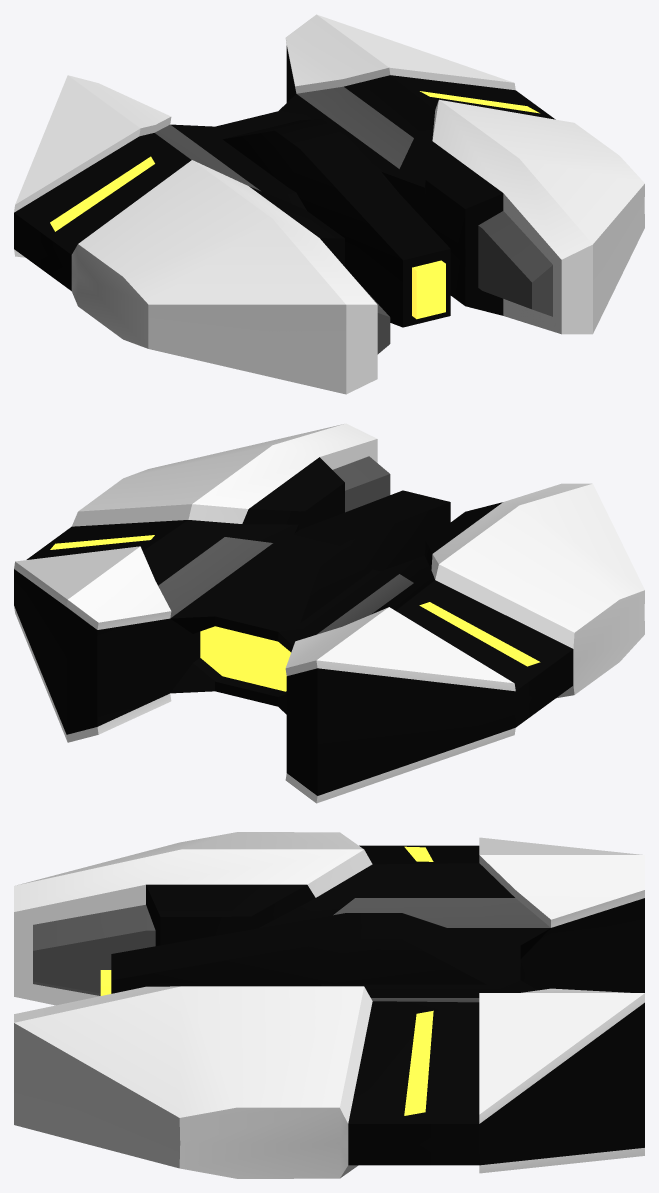
Rendered from 01_ship_light_dauwn.glb.
3 renders of one model, top to bottom at view 1: azimuth 30°, elevation 25°; view 2: azimuth 150°, elevation 25°; view 3: azimuth 270°, elevation 25°, orthographic. The views are drawn at different scales.
Parts seen in each view (by area): view 1: 01_ship_light_dauwn; view 2: 01_ship_light_dauwn; view 3: 01_ship_light_dauwn.
Boxes of the visible parts, <box> form: 01_ship_light_dauwn: <box>14,14,644,394</box>; 01_ship_light_dauwn: <box>14,423,644,803</box>; 01_ship_light_dauwn: <box>14,832,644,1178</box>.
Size of the model in its own units: 0.9946 by 0.2917 by 0.9526.
